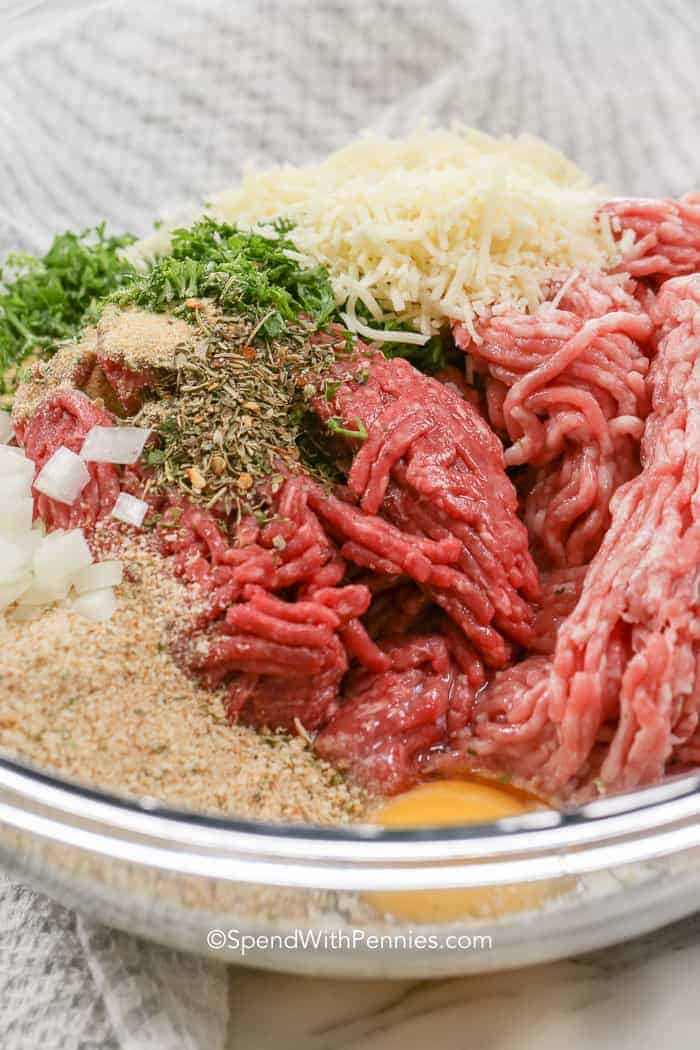ground_beef: (133, 352, 670, 789), (503, 197, 700, 764)
